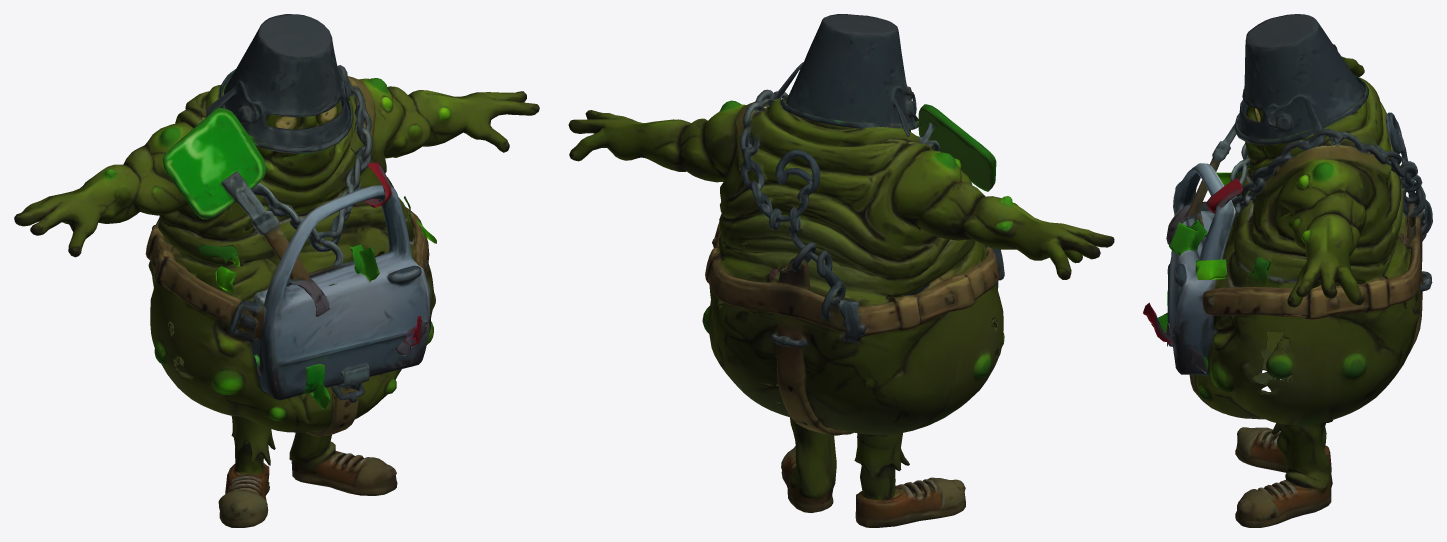
The model's file is kalkan_zombie.glb.
3 views of the same model, side by side, from view 1: azimuth 30°, elevation 25°; view 2: azimuth 150°, elevation 25°; view 3: azimuth 270°, elevation 25° (orthographic). The views are drawn at different scales.
Visible parts, largest first — view 1: world; view 2: world; view 3: world.
Part boxes in pixels (bbox=[...]): world: bbox=[14, 14, 539, 527]; world: bbox=[568, 14, 1114, 527]; world: bbox=[1143, 14, 1432, 527].
Bounding box in the file's own units: 0.9995 × 0.8724 × 0.4932.
1 material, 1 textured.
